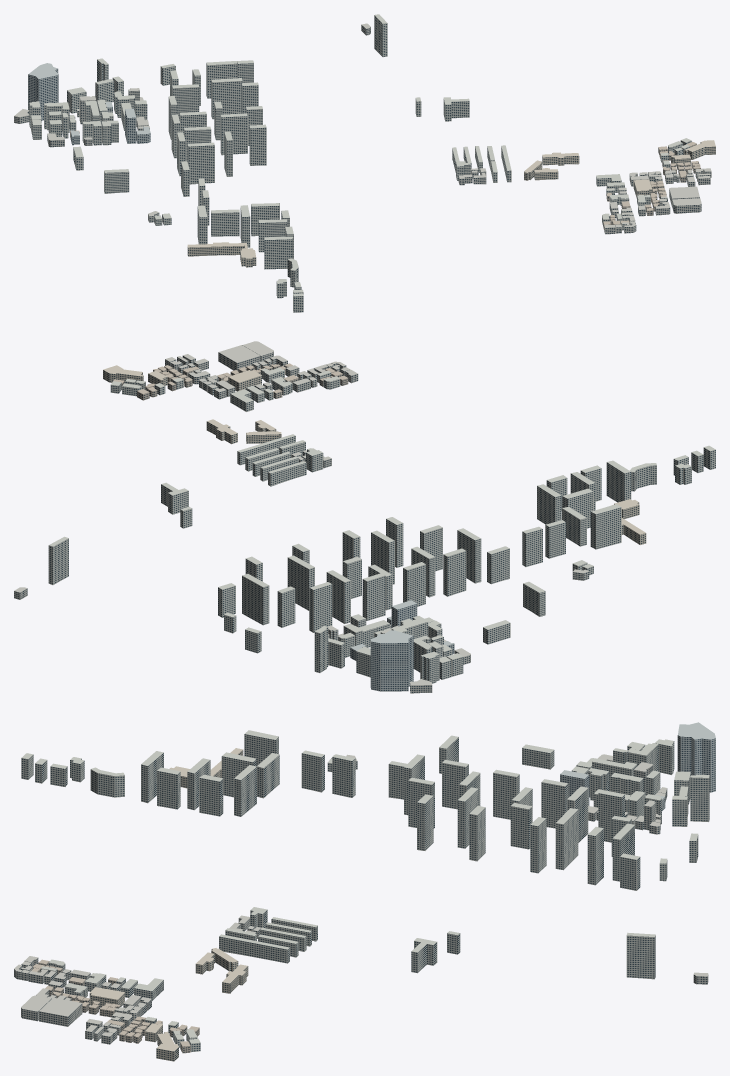
Rendered from city_5_-3.glb.
The picture shows the model from 3 angles, top to bottom: view 1: azimuth 30°, elevation 25°; view 2: azimuth 150°, elevation 25°; view 3: azimuth 270°, elevation 25°; orthographic projection. The views are drawn at different scales.
Size of the model in its own units: 1020 by 82.71 by 984.
5 materials, 5 textured.
